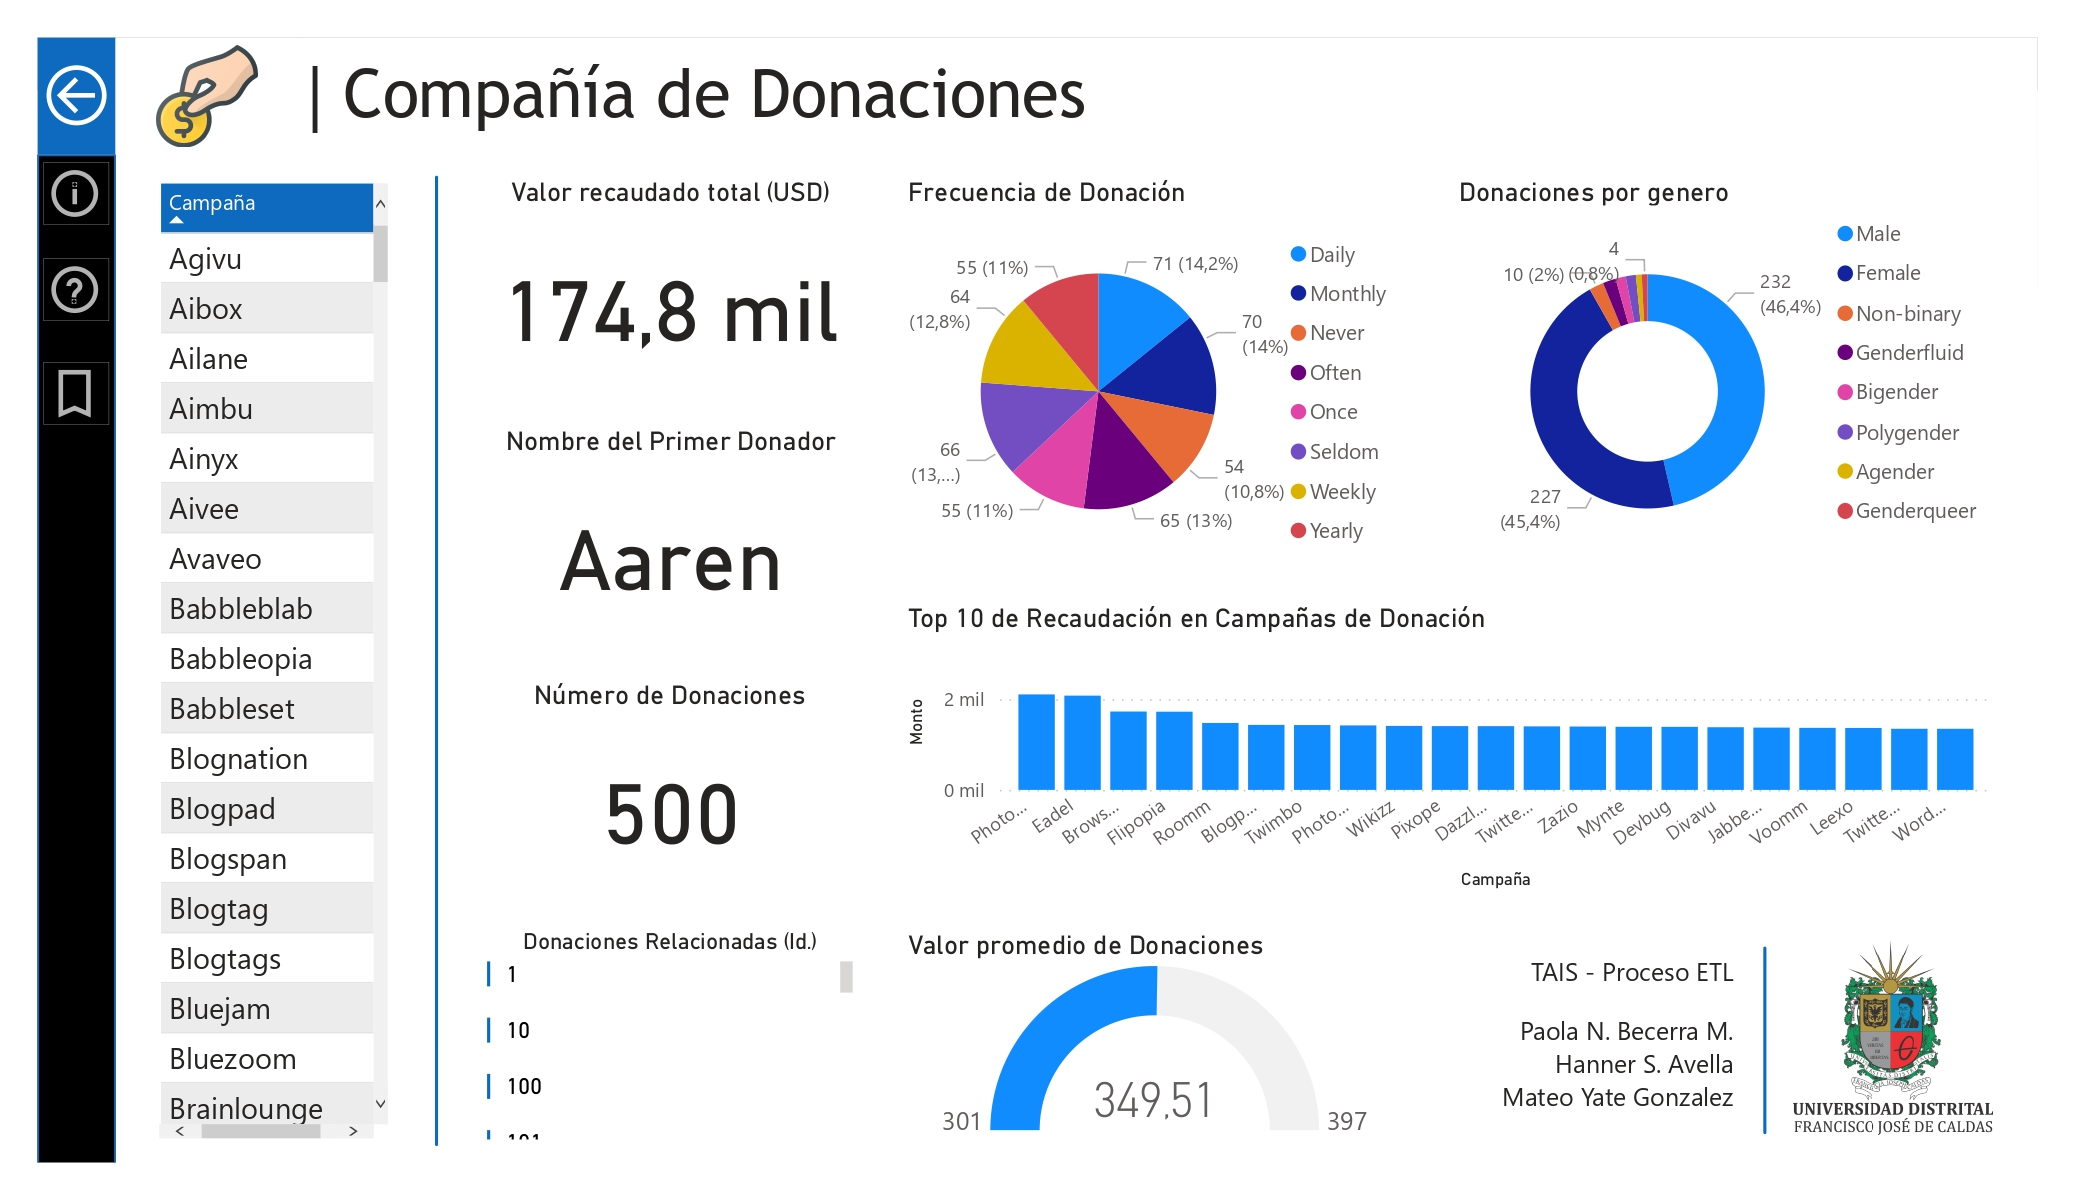

What the dashboard file says about the page in this screenshot:
{"tool":"powerbi","page":{"name":"Principal por Campaña","canvas":[1280,720],"ordinal":0},"visuals":[{"type":"donutChart","title":"Donaciones por genero","fields":{"Category":["donaciones.user.gender"],"Y":["donaciones.Frecuencia de Donación"]},"box":[904.8,88.5,350.6,256.9],"z":0},{"type":"pieChart","title":"Frecuencia de Donación","fields":{"Y":["donaciones.Numero de Donaciones"],"Series":["donaciones.Frecuencia de Donación"]},"box":[552.1,88.5,326.1,256.9],"z":1000},{"type":"tableEx","fields":{"Values":["donaciones.Compañia"]},"box":[73.5,88.5,155.6,621.3],"z":2000},{"type":"textbox","box":[167.3,0,1112.7,74.6],"z":3000},{"type":"card","title":"Valor recaudado total (USD)","fields":{"Values":["donaciones.Monto"]},"box":[282.4,88.5,244.1,139.6],"z":4000},{"type":"multiRowCard","title":"Donaciones Relacionadas (Id.)","fields":{"Values":["donaciones.ID (Donacion)"]},"box":[282.4,570.2,244.1,139.6],"z":5000},{"type":"actionButton","box":[0,0,50.1,74.6],"z":6000},{"type":"image","box":[50.1,0,117.2,74.6],"z":7000},{"type":"shape","box":[229.1,88.5,53.3,621.3],"z":8000},{"type":"card","title":"Nombre del Primer Donador","fields":{"Values":["donaciones.Primer Nombre"]},"box":[282.4,248.3,245.1,139.6],"z":9000},{"type":"card","title":"Número de Donaciones","fields":{"Values":["donaciones.ID (Donacion)"]},"box":[282.4,410.3,244.1,139.6],"z":10000},{"type":"shape","box":[0,74.6,50.1,645.9],"z":11000},{"type":"actionButton","box":[4.3,79.9,41.6,40.5],"z":12000},{"type":"actionButton","box":[4.3,141.7,41.6,40.5],"z":13000},{"type":"actionButton","box":[4.3,207.8,41.6,40.5],"z":14000},{"type":"gauge","title":"Valor promedio de Donaciones","fields":{"MaxValue":["donaciones.Monto"],"MinValue":["donaciones.Monto"],"Y":["donaciones.Monto"]},"box":[551.9,570.4,325.8,139.1],"z":15000},{"type":"textbox","box":[914.6,581.8,176,120.2],"z":16000},{"type":"image","box":[1118.3,569.6,137.7,139.8],"z":17000},{"type":"shape","box":[1079,581.8,52.9,120.2],"z":18000},{"type":"lineStackedColumnComboChart","title":"Top 10 de Recaudación en Campañas de Donación","fields":{"Y":["donaciones.Monto"],"Category":["donaciones.Campaña"]},"box":[551.9,361.7,703.8,187.8],"z":19000}]}

Visuals, with their boxes on the page's 1280x720 design canvas (x1, y1, x2, y2). These are canvas units, not pixel positions in the 2075x1200 screenshot, which may show the page scaled, cropped or inside an application window:
"Donaciones por genero" donutChart: crop(905, 88, 1255, 345)
"Frecuencia de Donación" pieChart: crop(552, 88, 878, 345)
tableEx - donaciones.Compañia: crop(74, 88, 229, 710)
textbox: crop(167, 0, 1280, 75)
"Valor recaudado total (USD)" card: crop(282, 88, 526, 228)
"Donaciones Relacionadas (Id.)" multiRowCard: crop(282, 570, 526, 710)
actionButton: crop(0, 0, 50, 75)
image: crop(50, 0, 167, 75)
shape: crop(229, 88, 282, 710)
"Nombre del Primer Donador" card: crop(282, 248, 528, 388)
"Número de Donaciones" card: crop(282, 410, 526, 550)
shape: crop(0, 75, 50, 720)
actionButton: crop(4, 80, 46, 120)
actionButton: crop(4, 142, 46, 182)
actionButton: crop(4, 208, 46, 248)
"Valor promedio de Donaciones" gauge: crop(552, 570, 878, 710)
textbox: crop(915, 582, 1091, 702)
image: crop(1118, 570, 1256, 709)
shape: crop(1079, 582, 1132, 702)
"Top 10 de Recaudación en Campañas de Donación" lineStackedColumnComboChart: crop(552, 362, 1256, 550)
